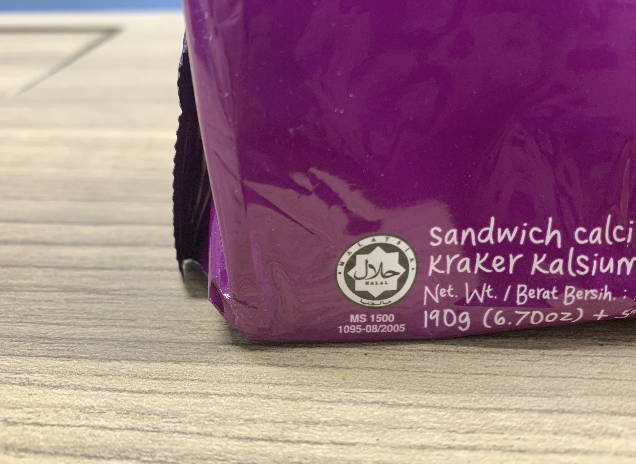halal: (353, 245, 403, 296)
